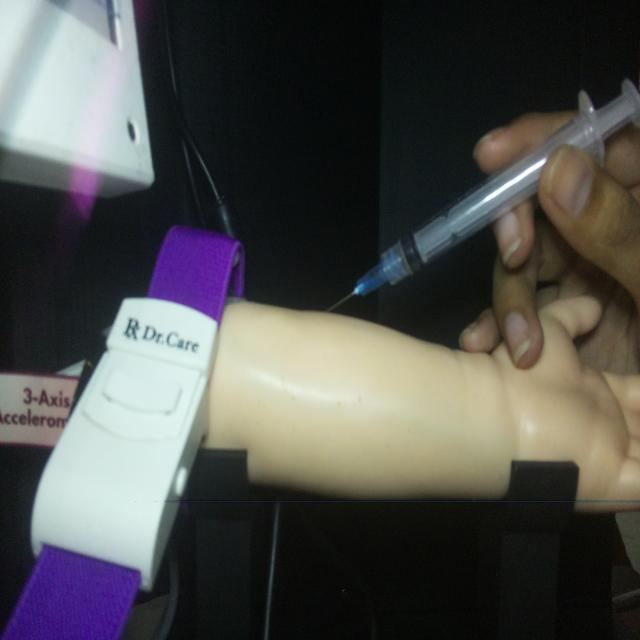27 degrees: (324, 75, 638, 314)
